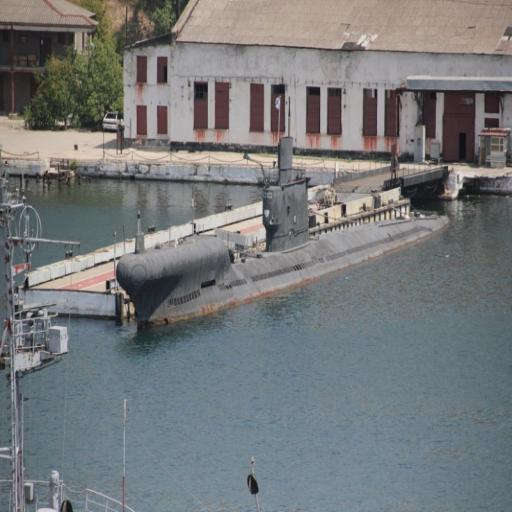submarine: (118, 100, 450, 334)
